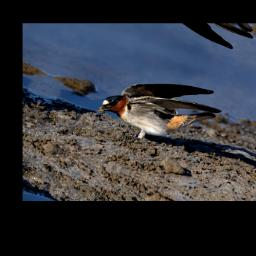Swallow: (88, 61, 229, 165)
